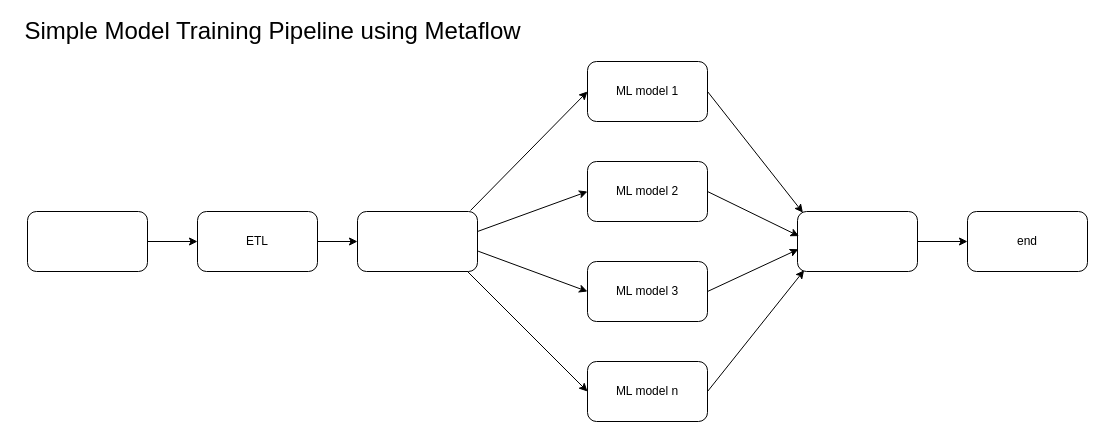
The diagram is 1105 pixels wide and 439 high, and some of its shapes have lost their labels. The shapes that lost their labels are listed below. From the top down, each one's box as (x1, y1, x2, y2) in pixels, then its label:
(26, 210, 148, 272): start
(356, 210, 478, 272): feature engineering
(796, 210, 918, 272): join
